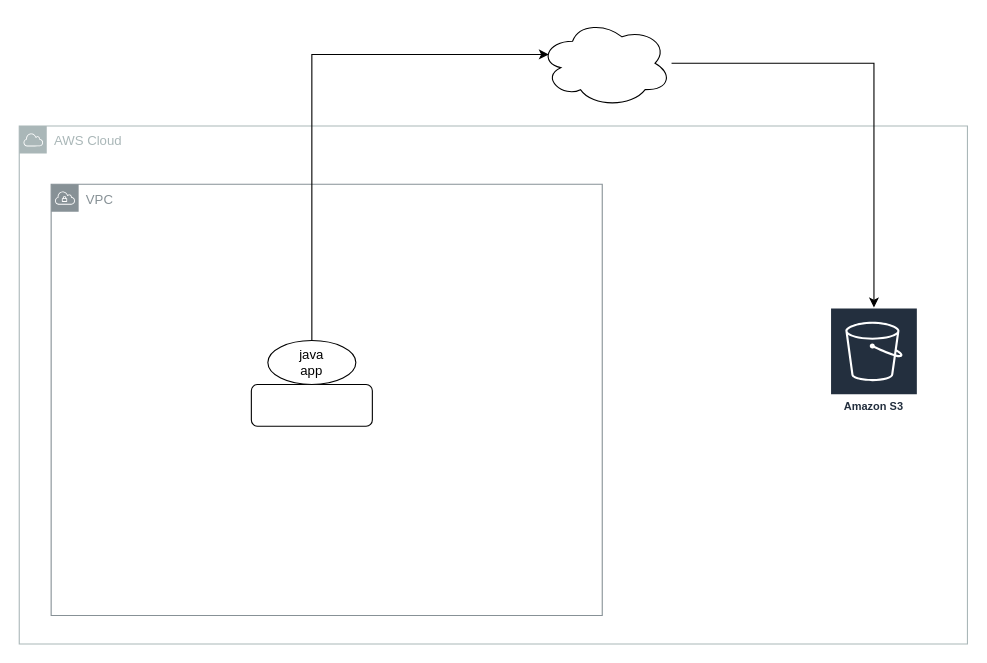
The diagram is 987 pixels wide and 663 high, and some of its shapes have lost their labels. The shapes that lost their labels are listed below. From the top down, each one's centre as x and y in pixels, then its label:
pixel 605 62: internet
pixel 311 404: EC2
